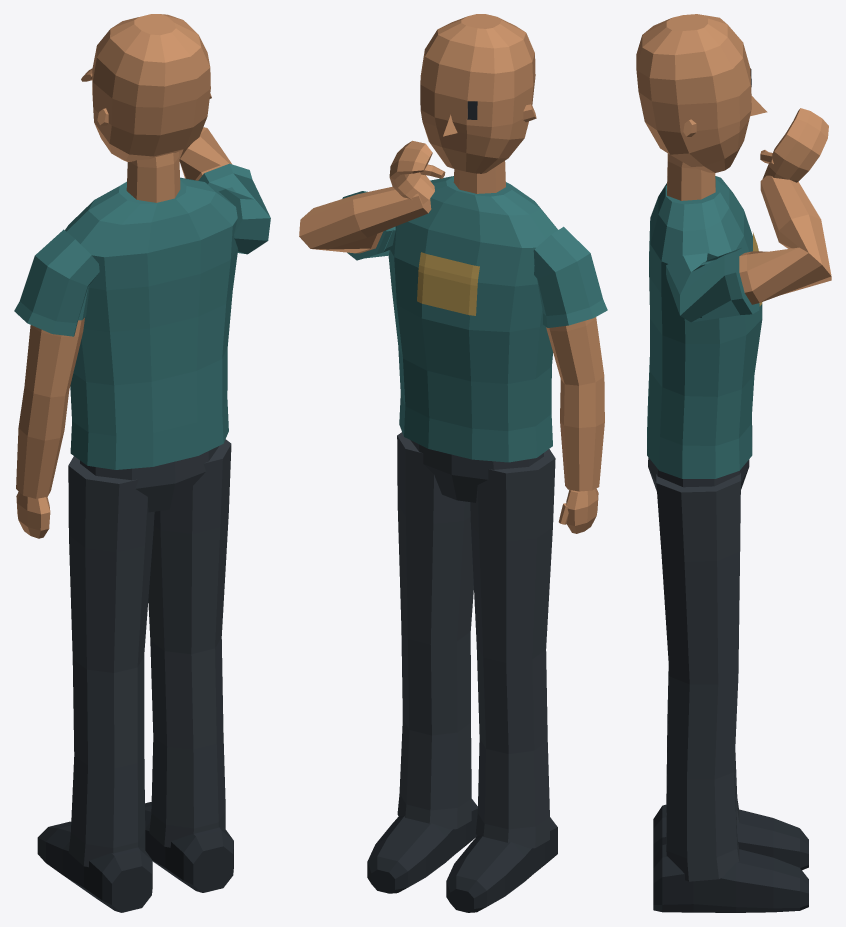
File: lwf_attendee_male_drinking_beer_v2.glb
3 renders of one model, left to right at view 1: azimuth 30°, elevation 25°; view 2: azimuth 150°, elevation 25°; view 3: azimuth 270°, elevation 25°, orthographic. The views are drawn at different scales.
Parts seen in each view (by area): view 1: Attendee_male_drinking_beer_v6; view 2: Attendee_male_drinking_beer_v6; view 3: Attendee_male_drinking_beer_v6.
Boxes of the visible parts, bbox=[...] form: Attendee_male_drinking_beer_v6: bbox=[14, 14, 270, 912]; Attendee_male_drinking_beer_v6: bbox=[299, 14, 607, 912]; Attendee_male_drinking_beer_v6: bbox=[636, 14, 831, 912].
Bounding box in the file's own units: 0.5307 × 1.73 × 0.353.
Materials: 1 (1 with a texture image).
